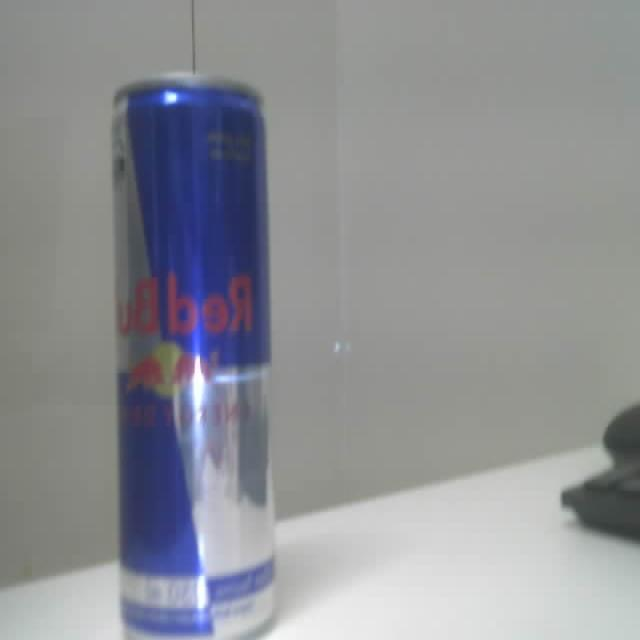redbull can: (113, 75, 273, 638)
